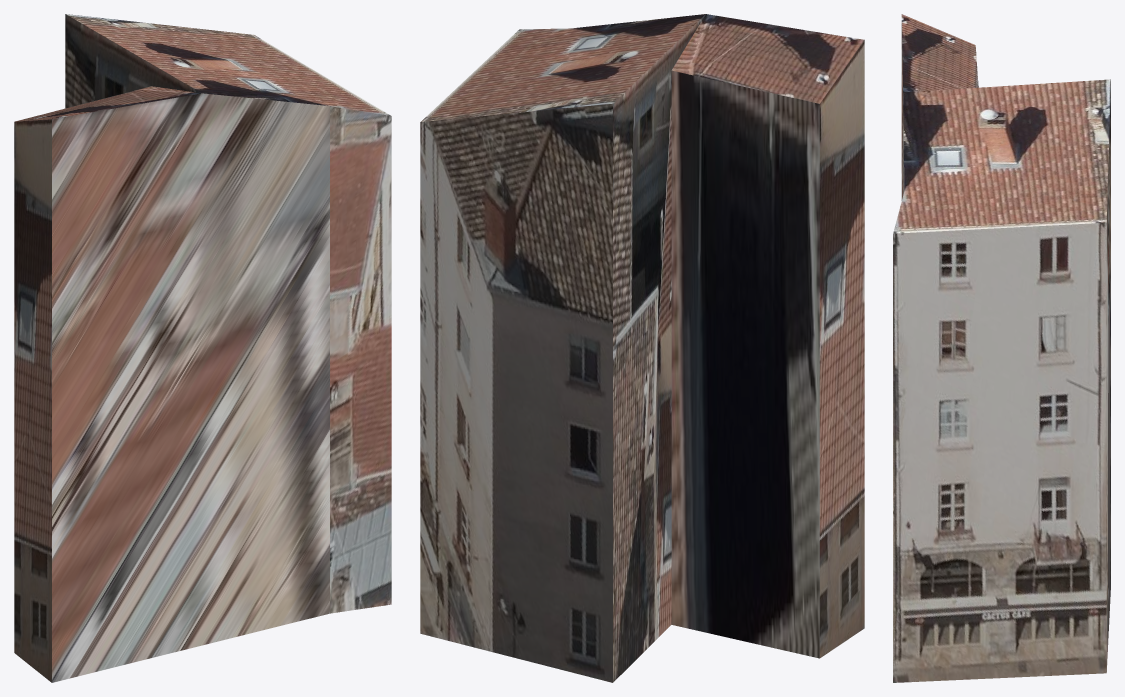
3 renders of one model, left to right at view 1: azimuth 30°, elevation 25°; view 2: azimuth 150°, elevation 25°; view 3: azimuth 270°, elevation 25°, orthographic. The views are drawn at different scales.
Parts seen in each view (by area): view 1: Z_UP; view 2: Z_UP; view 3: Z_UP.
Part boxes in pixels (box(x1,y1,x2,y2)): Z_UP: box(14, 14, 391, 682); Z_UP: box(420, 14, 864, 682); Z_UP: box(893, 14, 1110, 682).
Size of the model in its own units: 15.51 by 24.92 by 9.48.
2 materials, 1 textured.
